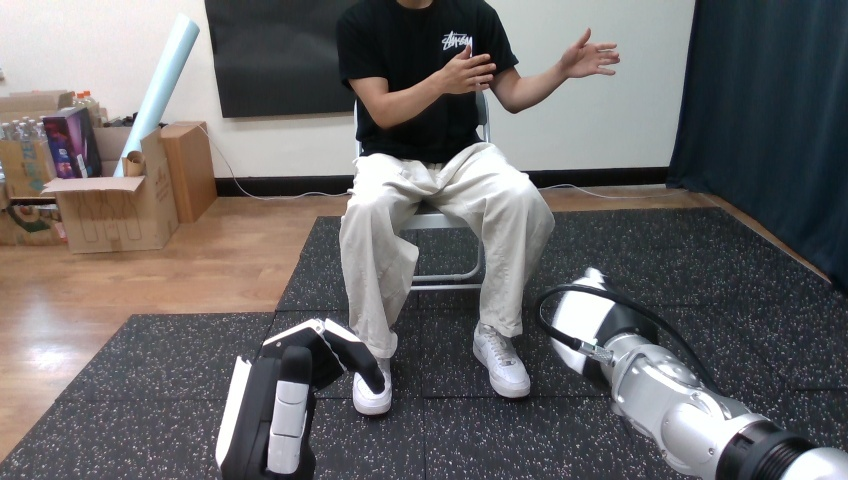left robot hand: (535, 268, 847, 479), (216, 319, 384, 479), (557, 28, 619, 77)
